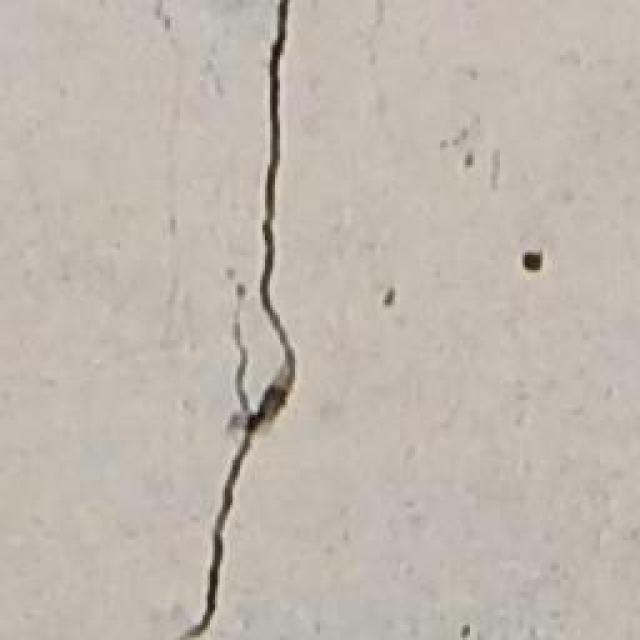concrete-crack: (180, 0, 298, 640), (232, 282, 262, 410)
